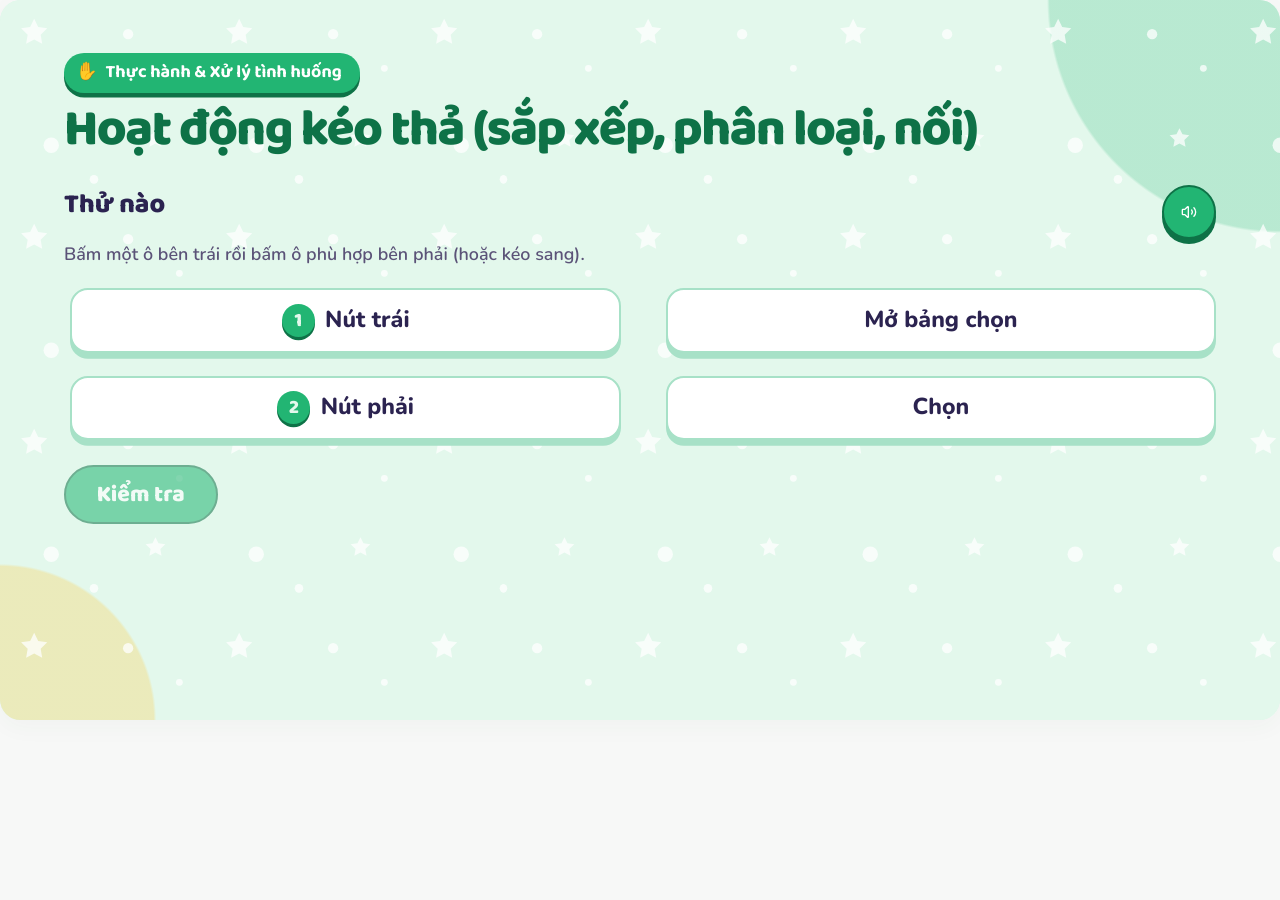
Test: lets the child match pairs
Click the button "1 Nút trái".
click(346, 320)  # box [70, 288, 621, 353]
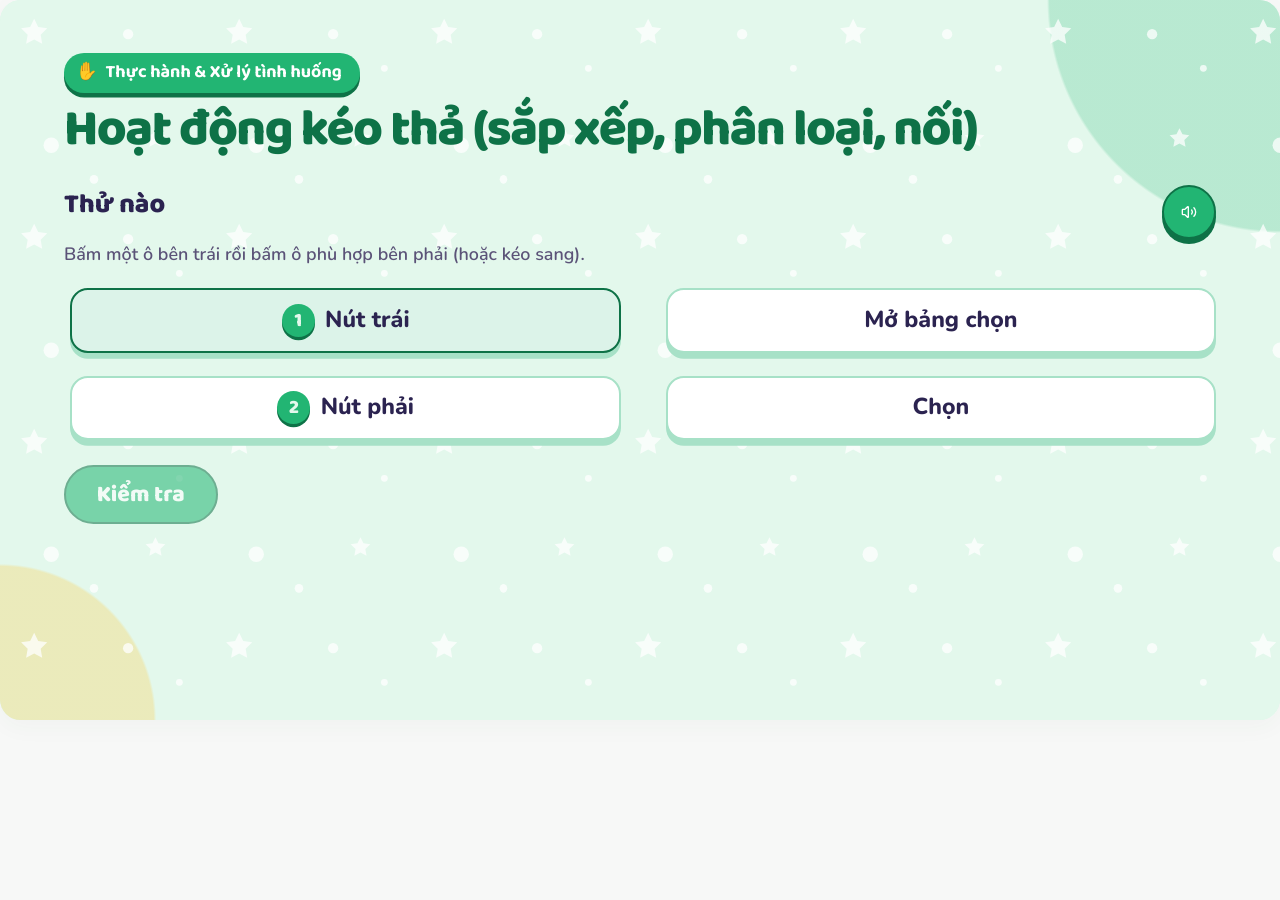
Click the button "Mở bảng chọn".
click(941, 320)  # box [666, 288, 1216, 353]
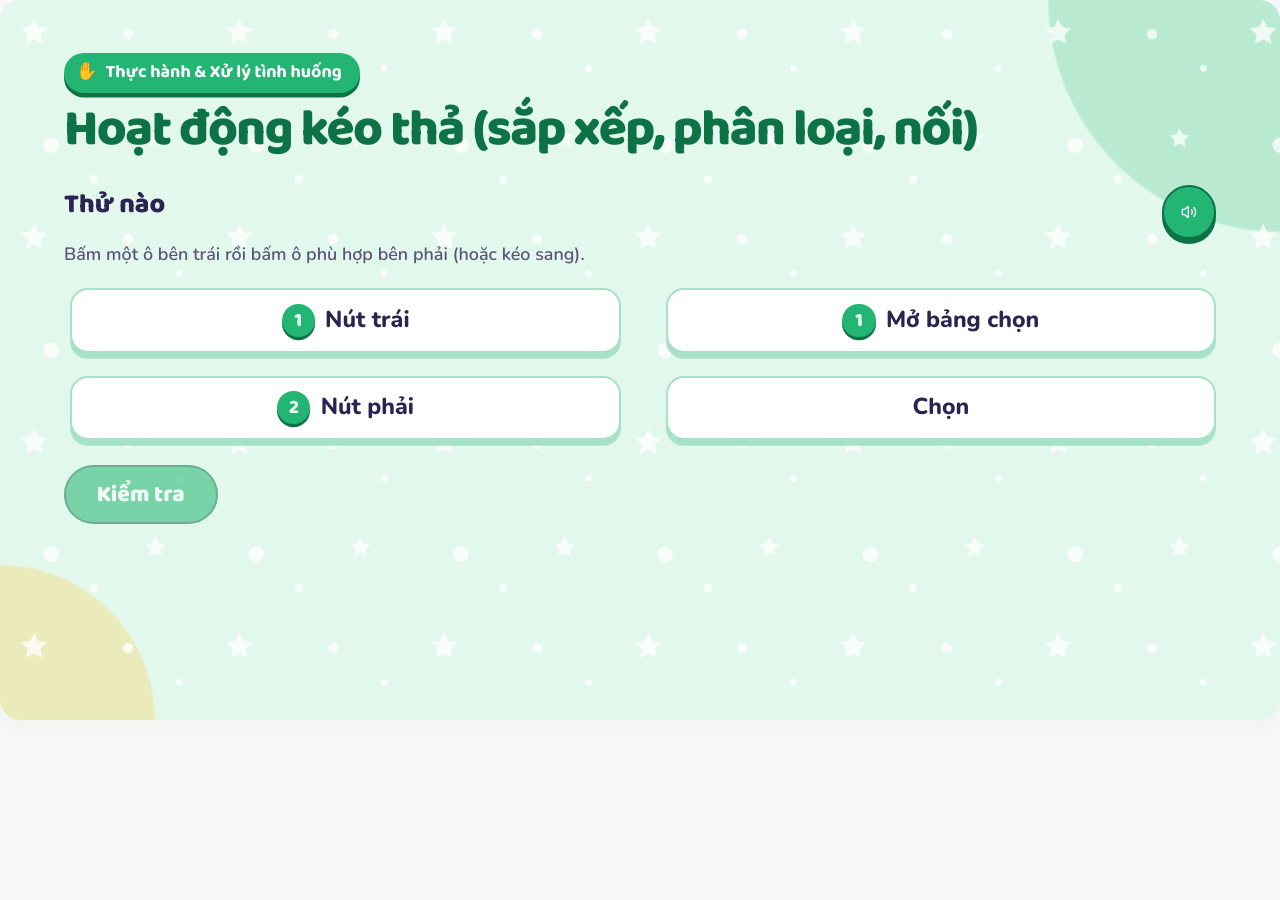
Click the button "2 Nút phải".
click(346, 408)  # box [70, 376, 621, 440]
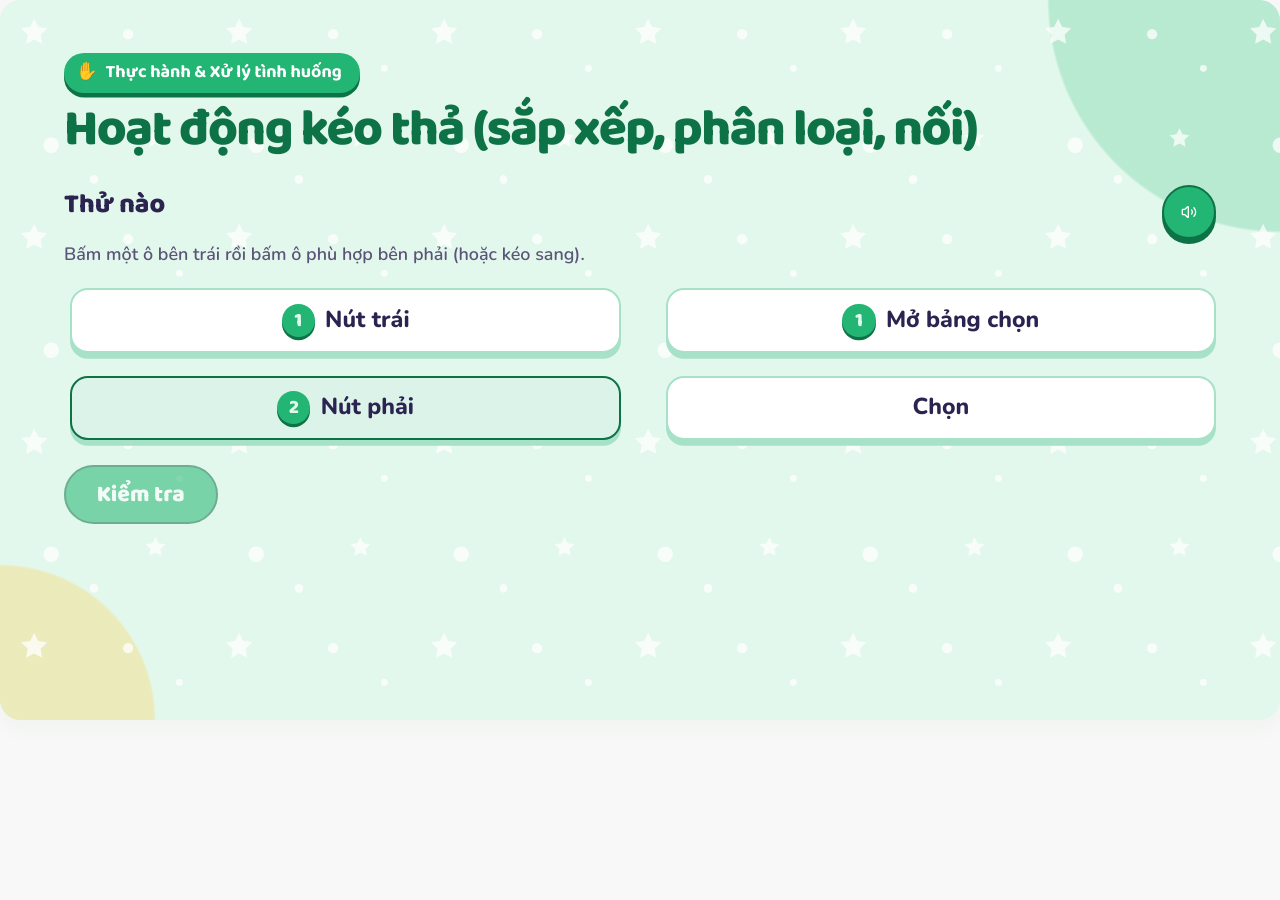
Click the button "Chọn".
click(941, 408)  # box [666, 376, 1216, 440]
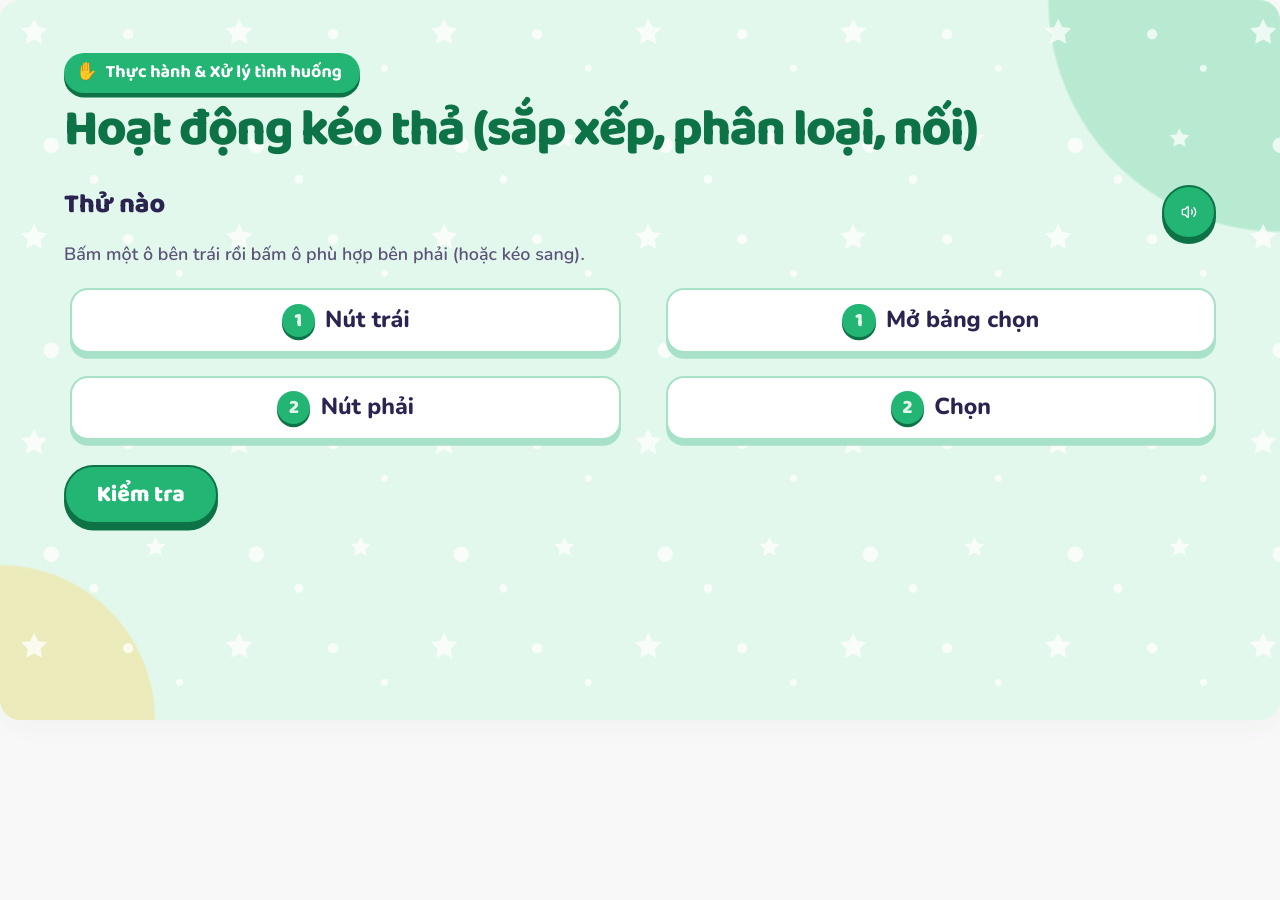
Click the button "Kiểm tra".
click(141, 495)  # box [64, 465, 218, 524]
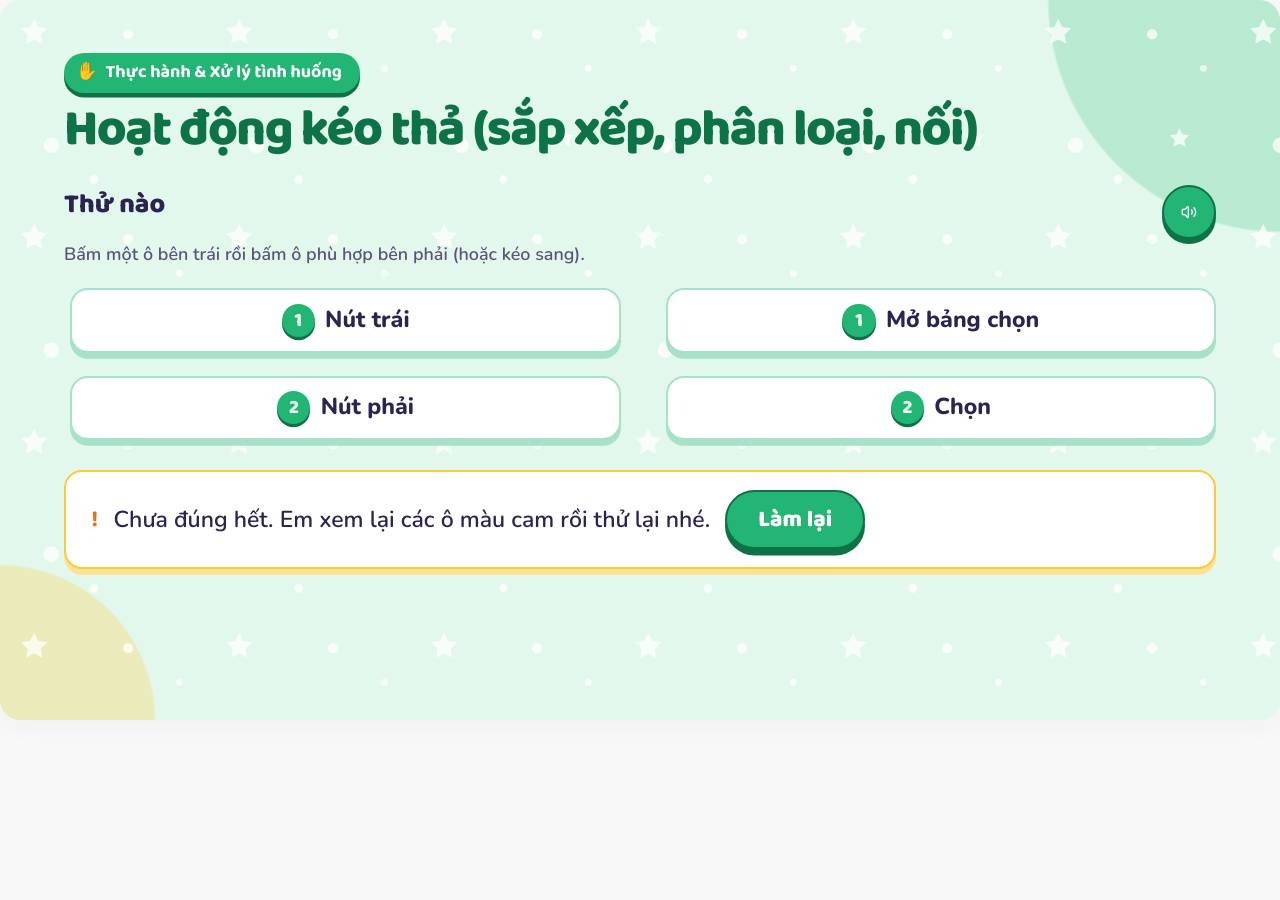
Now the message shows "Chưa đúng hết", box [114, 504, 710, 535]
